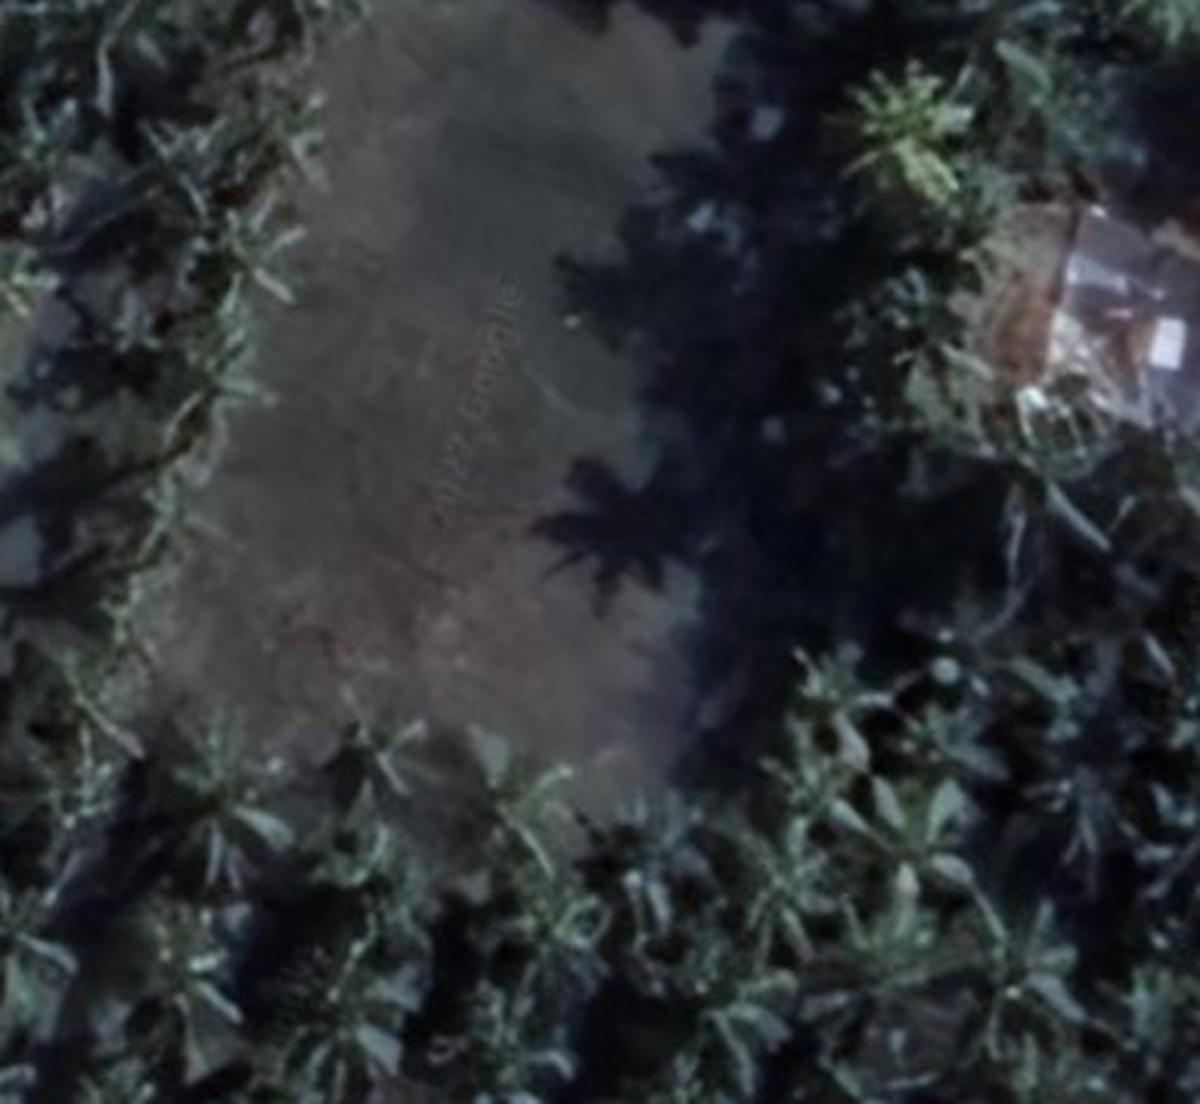coconut: (843, 762, 979, 905), (604, 803, 731, 954), (74, 579, 204, 716), (840, 65, 986, 182), (455, 976, 586, 1104), (158, 325, 289, 452), (753, 747, 874, 883), (474, 750, 604, 874), (483, 852, 607, 983), (322, 831, 440, 967), (145, 902, 269, 1029), (784, 635, 911, 756), (973, 899, 1094, 1026), (204, 198, 331, 316), (316, 933, 431, 1063), (679, 954, 797, 1082), (96, 455, 204, 579), (328, 703, 449, 806), (719, 837, 821, 954), (170, 756, 279, 865), (229, 96, 344, 189)
